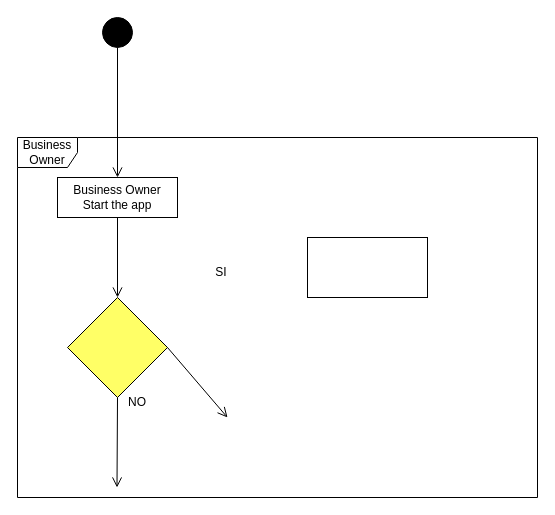
The diagram is 555 pixels wide and 515 high, and some of its shapes have lost their labels. Each missing label, with the box of its shape:
Llena un formulario de Registro al sistema: (306, 236, 428, 298)
Tiene una cuenta el usuario: (66, 296, 168, 398)
